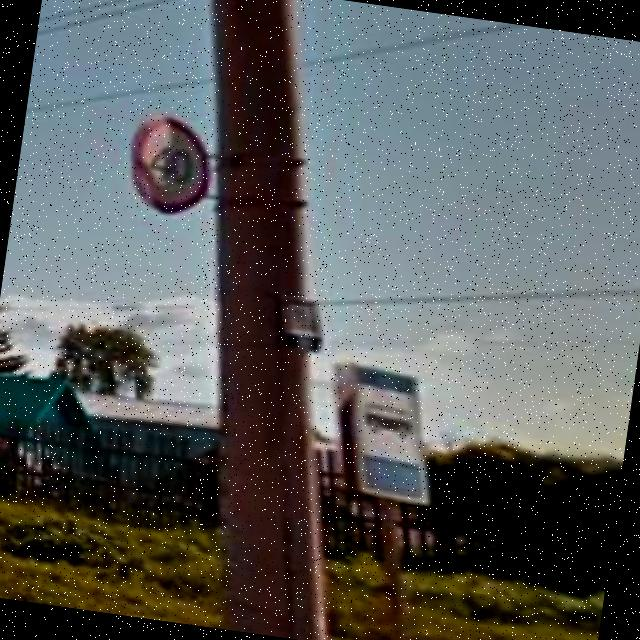Ograniczenie predkosci do 40: (121, 110, 218, 218)
